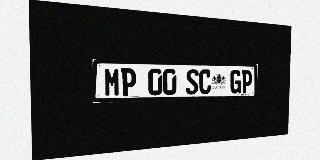0: (148, 68, 162, 96), (163, 69, 176, 95)
C: (199, 69, 211, 94)
G: (230, 70, 241, 94)
M: (104, 68, 120, 97)
P: (121, 68, 136, 96), (241, 70, 252, 93)
S: (186, 69, 199, 95)
